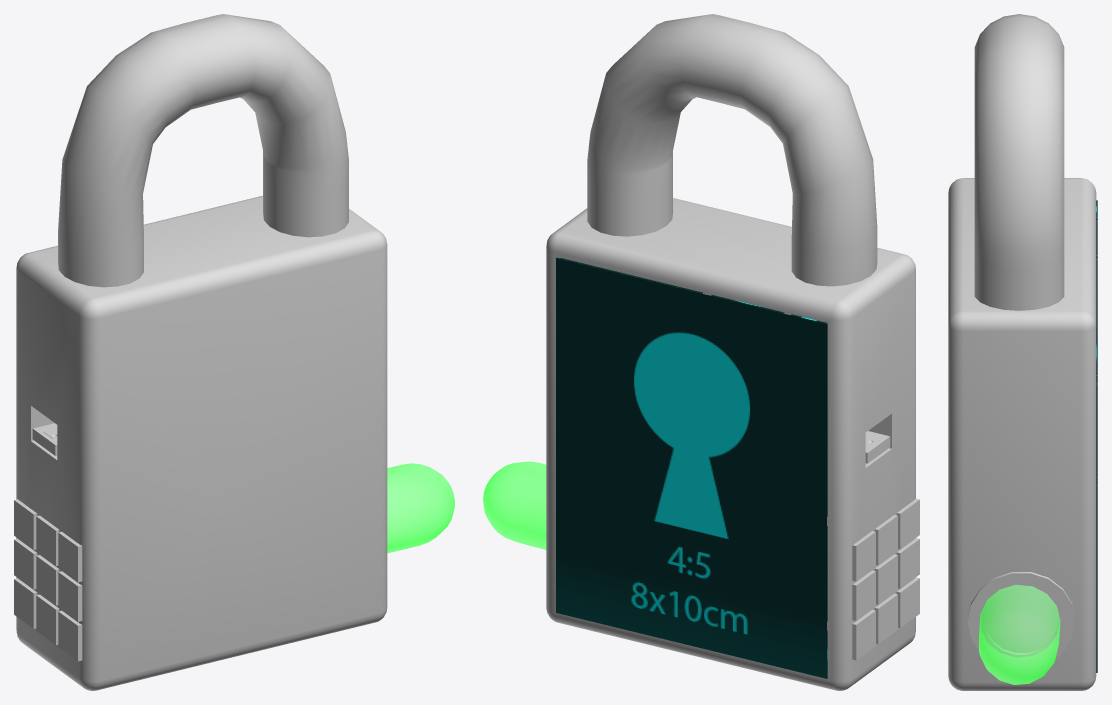
File: Candado 8x10.FBX
3 renders of one model, left to right at view 1: azimuth 30°, elevation 25°; view 2: azimuth 150°, elevation 25°; view 3: azimuth 270°, elevation 25°, orthographic. The views are drawn at different scales.
Parts seen in each view (by area): view 1: ChamferBox001, Cylinder001, Capsule001, Box004, Box007, Box010, Box005, Box002, Box006, Box008, Box003, Box009; view 2: Box013, ChamferBox001, Cylinder001, Capsule001, Box002, Box008, Box005, Box010, Box007, Box004, Box006, Box009 (+1 smaller); view 3: ChamferBox001, Cylinder001, Capsule001, Tube001, Box013.
Boxes of the visible parts, left/top/right/bottom form: ChamferBox001: left=16, top=195, right=387, bottom=690; Cylinder001: left=58, top=14, right=348, bottom=287; Capsule001: left=387, top=463, right=454, bottom=553; Box004: left=58, top=610, right=82, bottom=661; Box007: left=58, top=571, right=82, bottom=621; Box010: left=58, top=531, right=82, bottom=582; Box005: left=14, top=538, right=37, bottom=589; Box002: left=14, top=578, right=37, bottom=628; Box006: left=36, top=555, right=59, bottom=605; Box008: left=14, top=499, right=37, bottom=549; Box003: left=36, top=594, right=59, bottom=644; Box009: left=36, top=515, right=59, bottom=565; Box013: left=556, top=257, right=827, bottom=678; ChamferBox001: left=546, top=198, right=915, bottom=690; Cylinder001: left=587, top=14, right=877, bottom=286; Capsule001: left=483, top=461, right=546, bottom=549; Box002: left=852, top=609, right=875, bottom=660; Box008: left=852, top=531, right=875, bottom=581; Box005: left=852, top=570, right=875, bottom=620; Box010: left=896, top=498, right=919, bottom=549; Box007: left=896, top=538, right=919, bottom=588; Box004: left=896, top=577, right=919, bottom=627; Box006: left=874, top=554, right=897, bottom=604; Box009: left=874, top=515, right=897, bottom=565; ChamferBox001: left=948, top=178, right=1096, bottom=690; Cylinder001: left=974, top=14, right=1064, bottom=310; Capsule001: left=979, top=584, right=1060, bottom=684; Tube001: left=967, top=572, right=1075, bottom=658; Box013: left=1096, top=200, right=1097, bottom=672.
Bounding box in the file's own units: 46.63 × 67.49 × 15.49.
2 materials, 1 textured.
